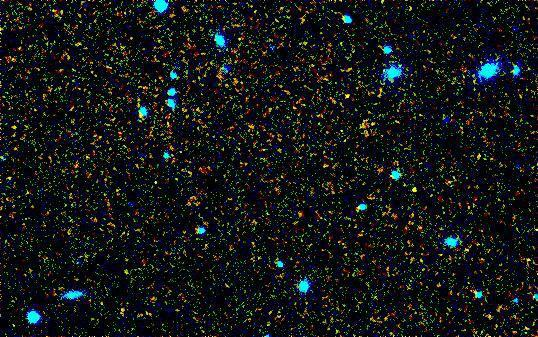star: (400, 176, 430, 206)
